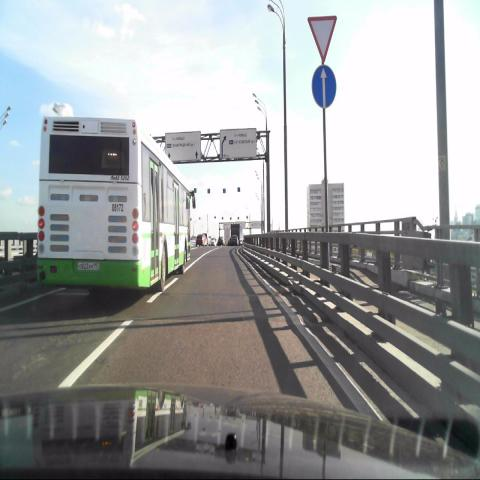2_4: (307, 14, 338, 64)
